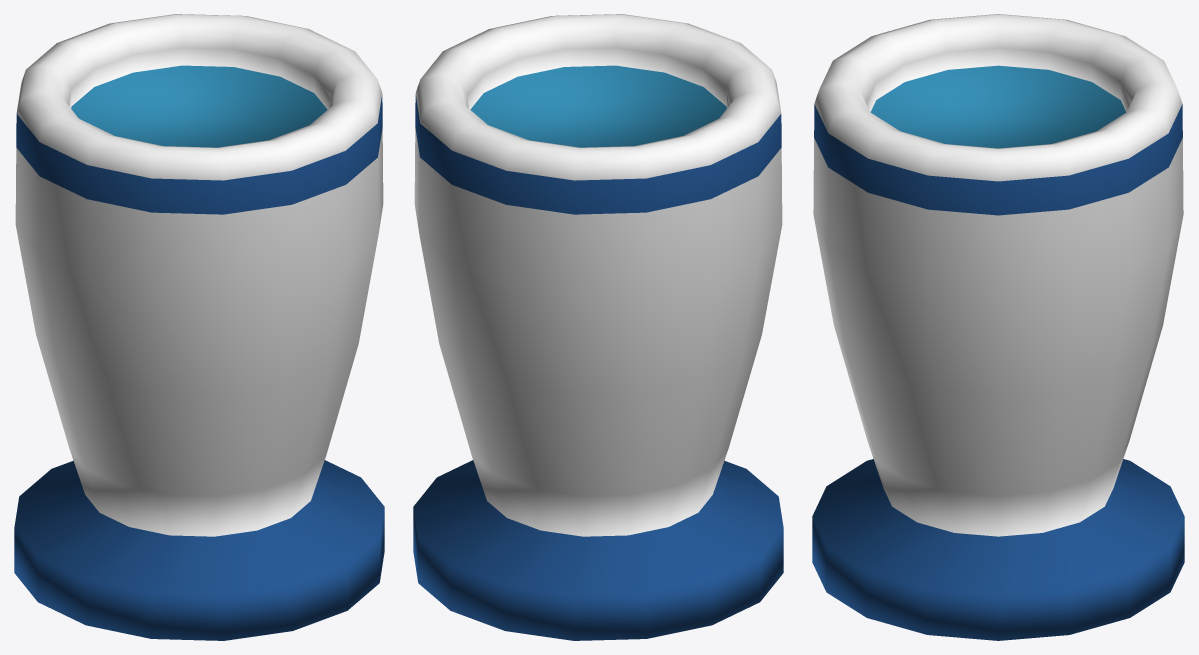
The model's file is Shake_Food.glb.
3 renders of one model, left to right at view 1: azimuth 30°, elevation 25°; view 2: azimuth 150°, elevation 25°; view 3: azimuth 270°, elevation 25°, orthographic.
Parts seen in each view (by area): view 1: Shake_Food; view 2: Shake_Food; view 3: Shake_Food.
Part boxes in pixels (<box>): Shake_Food: <box>14,14,384,640</box>; Shake_Food: <box>413,14,783,640</box>; Shake_Food: <box>812,14,1184,640</box>.
Size of the model in its own units: 0.0797 by 0.1129 by 0.0797.
Materials: 1 (1 with a texture image).
